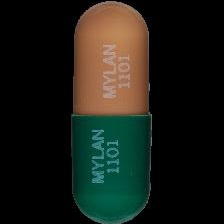0378-1101: (0, 0, 224, 224)
